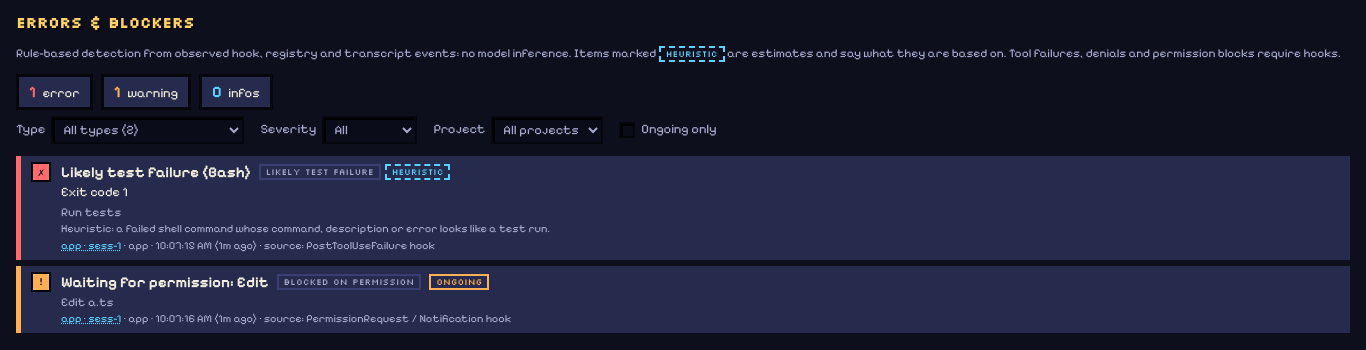
Test: ErrorsView › lists rule-based problems sorted by severity, links them to agents and filters them
Later steps or results of the test are not shown.
Expected: the text "heuristic" in the row of "Likely test failure (Bash)" is shown, [392,166,444,177]
Expected: the text "Waiting for permission: Edit" is shown, [61,272,269,292]
Click the button "app · sess-1" in the row of "10:07:15 AM". click: {"x": 91, "y": 246}
box: [61,239,121,254]
Select "Blocked on permission (1)" in the dropdown named "Filter by type". click: {"x": 148, "y": 130}
box: [51,116,244,144]
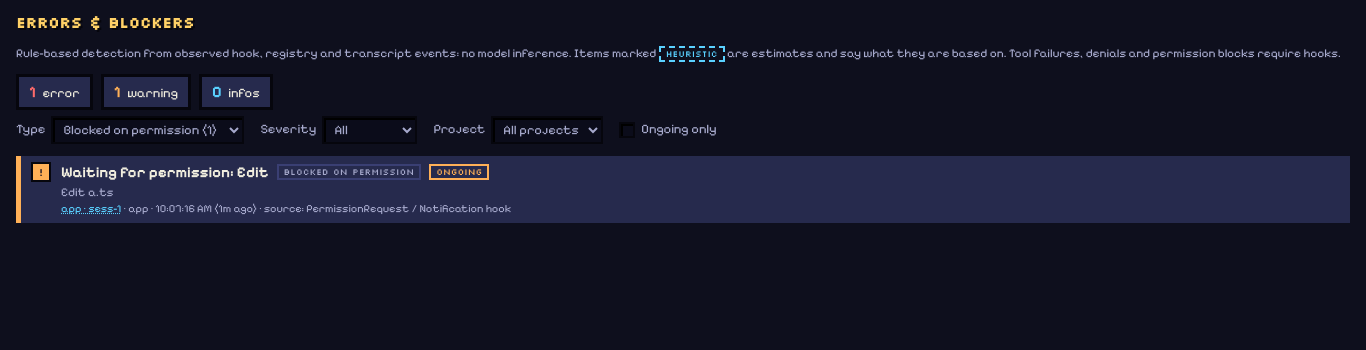
Expected: the number of list items is 1, [16,156,1350,223]
Select "Disconnected session (0)" in the dropdown named "Filter by type". click: {"x": 148, "y": 130}
box: [51,116,244,144]
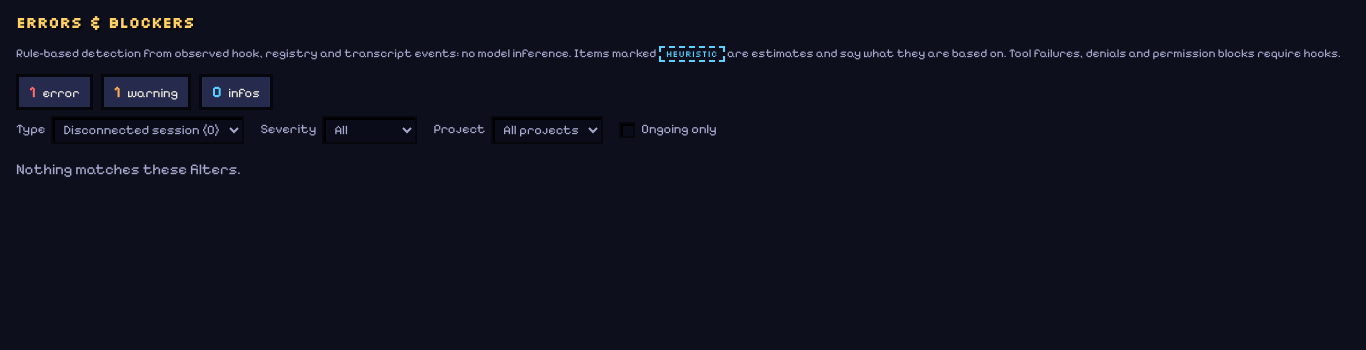
Expected: the text "Nothing matches these filters." is shown, [16,160,241,178]
